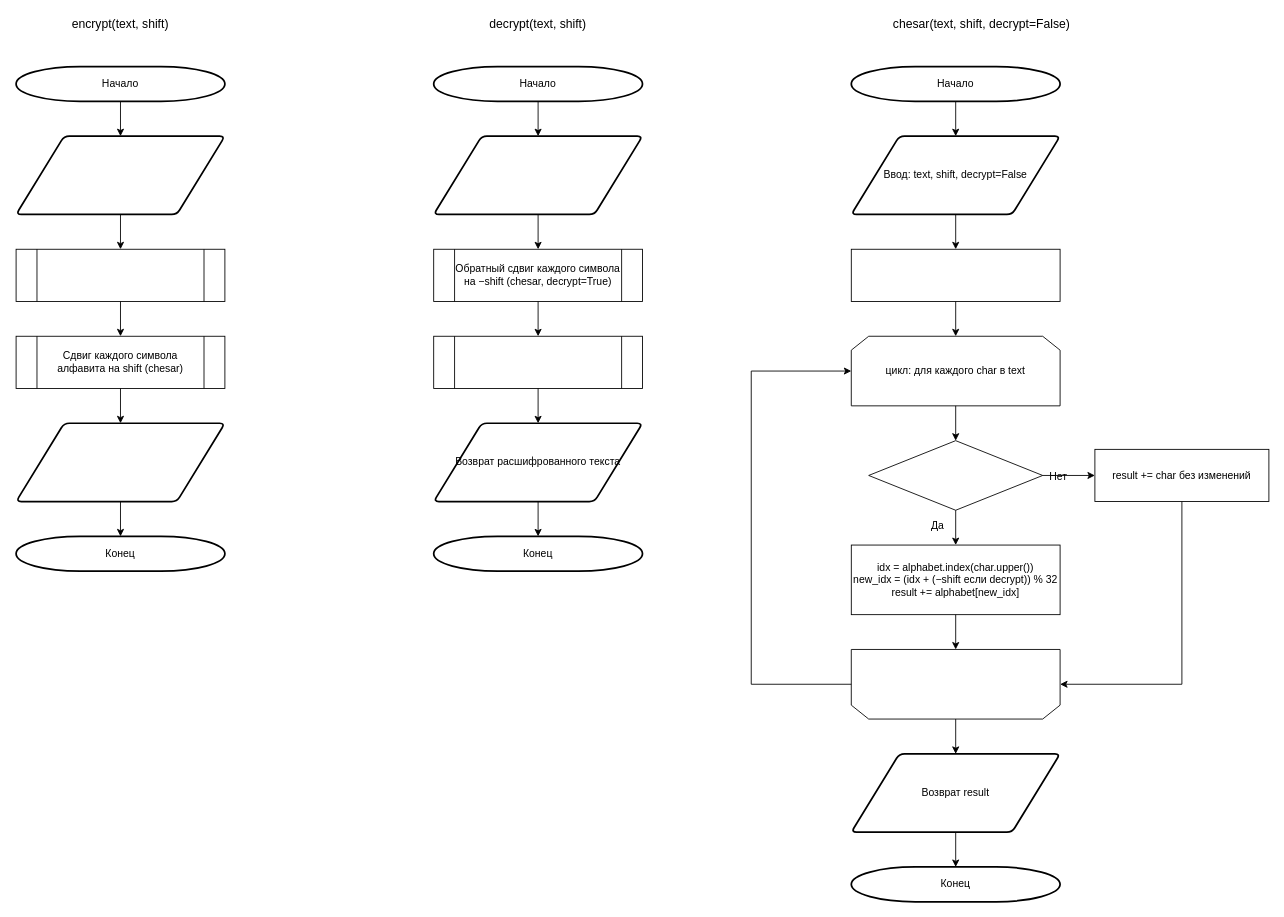
The diagram is 1284 pixels wide and 917 high, and some of its shapes have lost their labels. Each missing label, with the centre of its shape:
char.upper() — буква рус. алфавита?: (955,475)
result = "": (955,274)
Ввод: text (строка), shift (сдвиг 1–31): (120,175)
Ввод: text (шифртекст), shift (сдвиг): (537,175)
Возврат зашифрованного текста: (120,462)
Восстановление знаков пунктуации из буквенных кодов (restore): (537,361)
Замена знаков пунктуации на буквенные коды (replace): (120,274)
